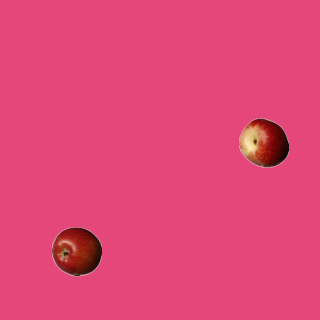Apple Braeburn: (51, 226, 101, 276)
Nectarine: (238, 117, 288, 167)
